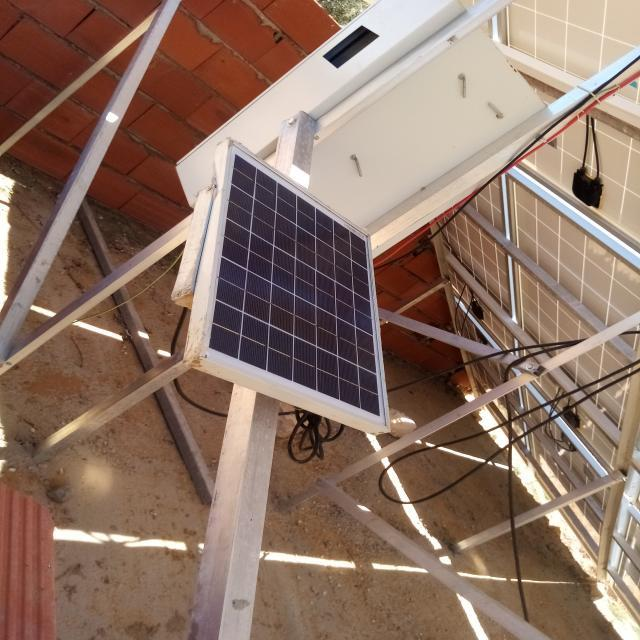no faulty: (203, 139, 389, 428)
